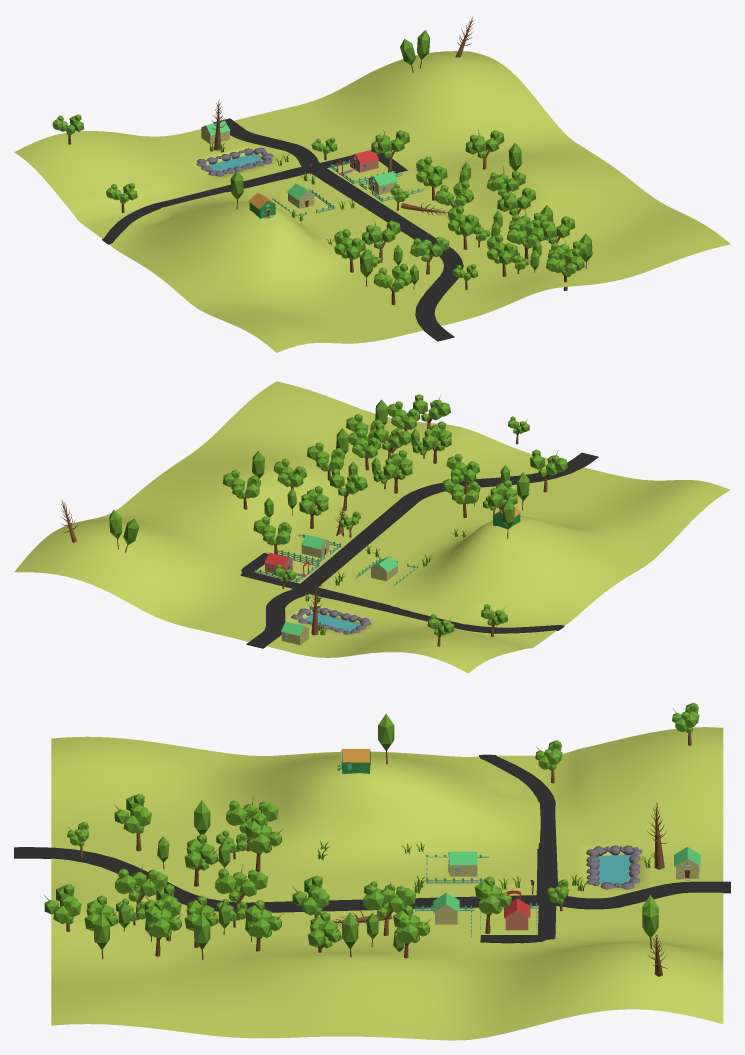
The model's file is terrain_obj.glb.
3 renders of one model, top to bottom at view 1: azimuth 30°, elevation 25°; view 2: azimuth 150°, elevation 25°; view 3: azimuth 270°, elevation 25°, orthographic. The views are drawn at different scales.
Parts seen in each view (by area): view 1: Landscape_Plane_Landscape, Road_Cube.001_Road, Rock_Cube.006_Rock, Tree_Leaf.018_Icosphere.029_Leaf, Tree_Leaf.008_Icosphere.013_Leaf, Tree_Leaf.021_Icosphere.034_Leaf, Tree_Leaf.011_Icosphere.018_Leaf, Tree_Leaf.012_Icosphere.019_Leaf, Tree_Leaf.022_Icosphere.035_Leaf, Tree_Leaf.007_Icosphere.012_Leaf, Tree_Leaf_Icosphere_Leaf, Tree_Leaf.024_Icosphere.039_Leaf (+6 smaller); view 2: Landscape_Plane_Landscape, Road_Cube.001_Road, Rock_Cube.006_Rock, Tree_Leaf.004_Icosphere.007_Leaf, Tree_Leaf_Icosphere_Leaf, Tree_Leaf.024_Icosphere.039_Leaf, Tree_Leaf.014_Icosphere.023_Leaf, Tree_Leaf.008_Icosphere.013_Leaf, Tree_Leaf.021_Icosphere.034_Leaf, Tree_Leaf.017_Icosphere.028_Leaf, Tree_Leaf.022_Icosphere.035_Leaf, Tree_Leaf.012_Icosphere.019_Leaf (+7 smaller); view 3: Landscape_Plane_Landscape, Road_Cube.001_Road, Rock_Cube.006_Rock, Tree_Leaf.012_Icosphere.019_Leaf, Tree_Leaf.022_Icosphere.035_Leaf, Tree_Leaf.017_Icosphere.028_Leaf, Tree_Leaf.007_Icosphere.012_Leaf, Tree_Leaf.018_Icosphere.029_Leaf, Tree_Leaf.021_Icosphere.034_Leaf, Tree_Leaf.008_Icosphere.013_Leaf, Tree_Leaf.004_Icosphere.007_Leaf, Tree_Leaf_Icosphere_Leaf (+12 smaller).
Part boxes in pixels (left/top/right/bottom): Landscape_Plane_Landscape: left=14, top=51, right=730, bottom=352; Road_Cube.001_Road: left=102, top=118, right=463, bottom=341; Rock_Cube.006_Rock: left=196, top=147, right=273, bottom=176; Tree_Leaf.018_Icosphere.029_Leaf: left=545, top=248, right=584, bottom=276; Tree_Leaf.008_Icosphere.013_Leaf: left=373, top=263, right=412, bottom=292; Tree_Leaf.021_Icosphere.034_Leaf: left=435, top=180, right=473, bottom=207; Tree_Leaf.011_Icosphere.018_Leaf: left=506, top=219, right=544, bottom=248; Tree_Leaf.012_Icosphere.019_Leaf: left=447, top=205, right=479, bottom=236; Tree_Leaf.022_Icosphere.035_Leaf: left=416, top=156, right=447, bottom=187; Tree_Leaf.007_Icosphere.012_Leaf: left=334, top=229, right=365, bottom=259; Tree_Leaf_Icosphere_Leaf: left=371, top=130, right=409, bottom=158; Tree_Leaf.024_Icosphere.039_Leaf: left=465, top=130, right=504, bottom=158; Landscape_Plane_Landscape: left=14, top=381, right=730, bottom=673; Road_Cube.001_Road: left=240, top=452, right=598, bottom=648; Rock_Cube.006_Rock: left=291, top=606, right=371, bottom=634; Tree_Leaf.004_Icosphere.007_Leaf: left=442, top=475, right=480, bottom=504; Tree_Leaf_Icosphere_Leaf: left=253, top=516, right=291, bottom=545; Tree_Leaf.024_Icosphere.039_Leaf: left=222, top=470, right=260, bottom=498; Tree_Leaf.014_Icosphere.023_Leaf: left=307, top=442, right=344, bottom=471; Tree_Leaf.008_Icosphere.013_Leaf: left=530, top=449, right=568, bottom=476; Tree_Leaf.021_Icosphere.034_Leaf: left=329, top=468, right=367, bottom=495; Tree_Leaf.017_Icosphere.028_Leaf: left=422, top=421, right=451, bottom=451; Tree_Leaf.022_Icosphere.035_Leaf: left=299, top=486, right=328, bottom=515; Tree_Leaf.012_Icosphere.019_Leaf: left=383, top=450, right=412, bottom=479; Landscape_Plane_Landscape: left=51, top=727, right=723, bottom=1040; Road_Cube.001_Road: left=14, top=754, right=730, bottom=943; Rock_Cube.006_Rock: left=586, top=845, right=642, bottom=889; Tree_Leaf.012_Icosphere.019_Leaf: left=215, top=868, right=268, bottom=901; Tree_Leaf.022_Icosphere.035_Leaf: left=363, top=885, right=416, bottom=918; Tree_Leaf.017_Icosphere.028_Leaf: left=115, top=868, right=167, bottom=901; Tree_Leaf.007_Icosphere.012_Leaf: left=226, top=800, right=278, bottom=833; Tree_Leaf.018_Icosphere.029_Leaf: left=44, top=884, right=81, bottom=924; Tree_Leaf.021_Icosphere.034_Leaf: left=292, top=875, right=329, bottom=915; Tree_Leaf.008_Icosphere.013_Leaf: left=114, top=793, right=151, bottom=834; Tree_Leaf.004_Icosphere.007_Leaf: left=245, top=815, right=281, bottom=853; Tree_Leaf_Icosphere_Leaf: left=474, top=876, right=511, bottom=914.
Bounding box in the file's own units: 70.18 × 12.52 × 74.69.
